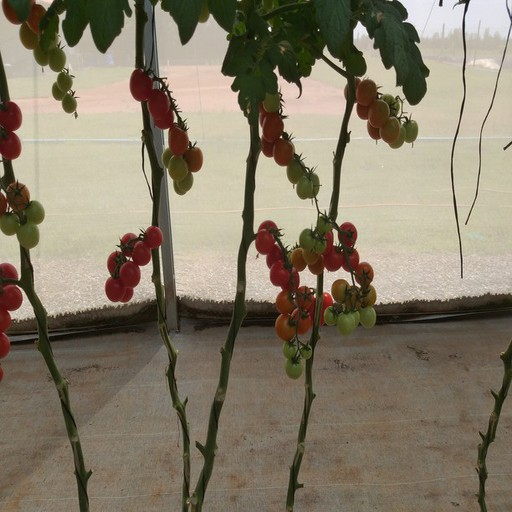green tomato bunch: (1, 1, 77, 112), (254, 90, 320, 200), (344, 75, 418, 148), (1, 180, 46, 250)
mixed tomato bunch: (293, 209, 381, 333), (130, 69, 204, 196)
red tomato bunch: (255, 220, 312, 342), (106, 226, 164, 304), (1, 260, 20, 372), (1, 99, 25, 160)
